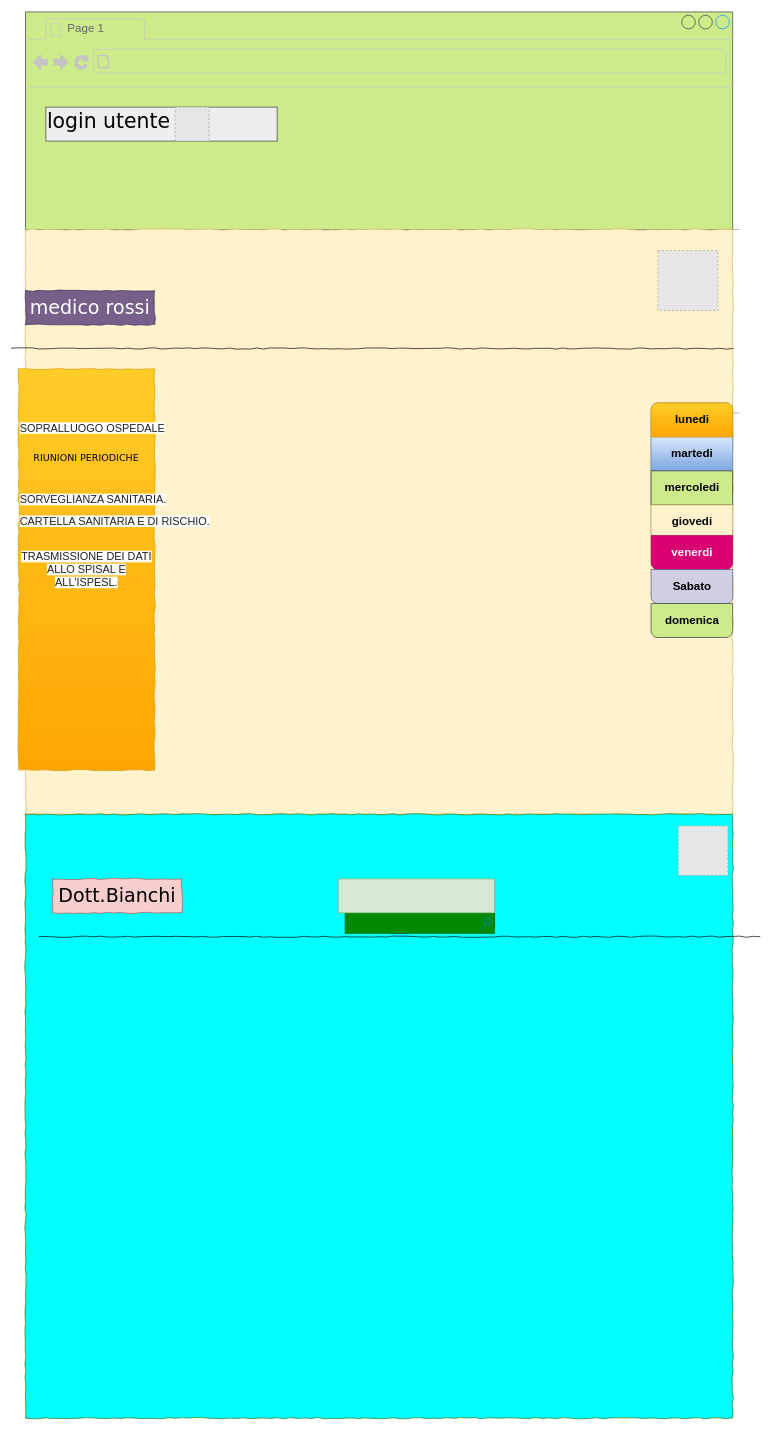
Some shapes in this 772 by 1430 pixel diagram are drawn without their labels. Grey dashed boxes stand in for pictures. Here are the shapes that lost their labels. From the top down, the centre of each, then its label:
At point 198,61: "https/::ospedaleroma3".
At point 416,895: "cercare qui il farmaco".
At point 419,922: "Search".
